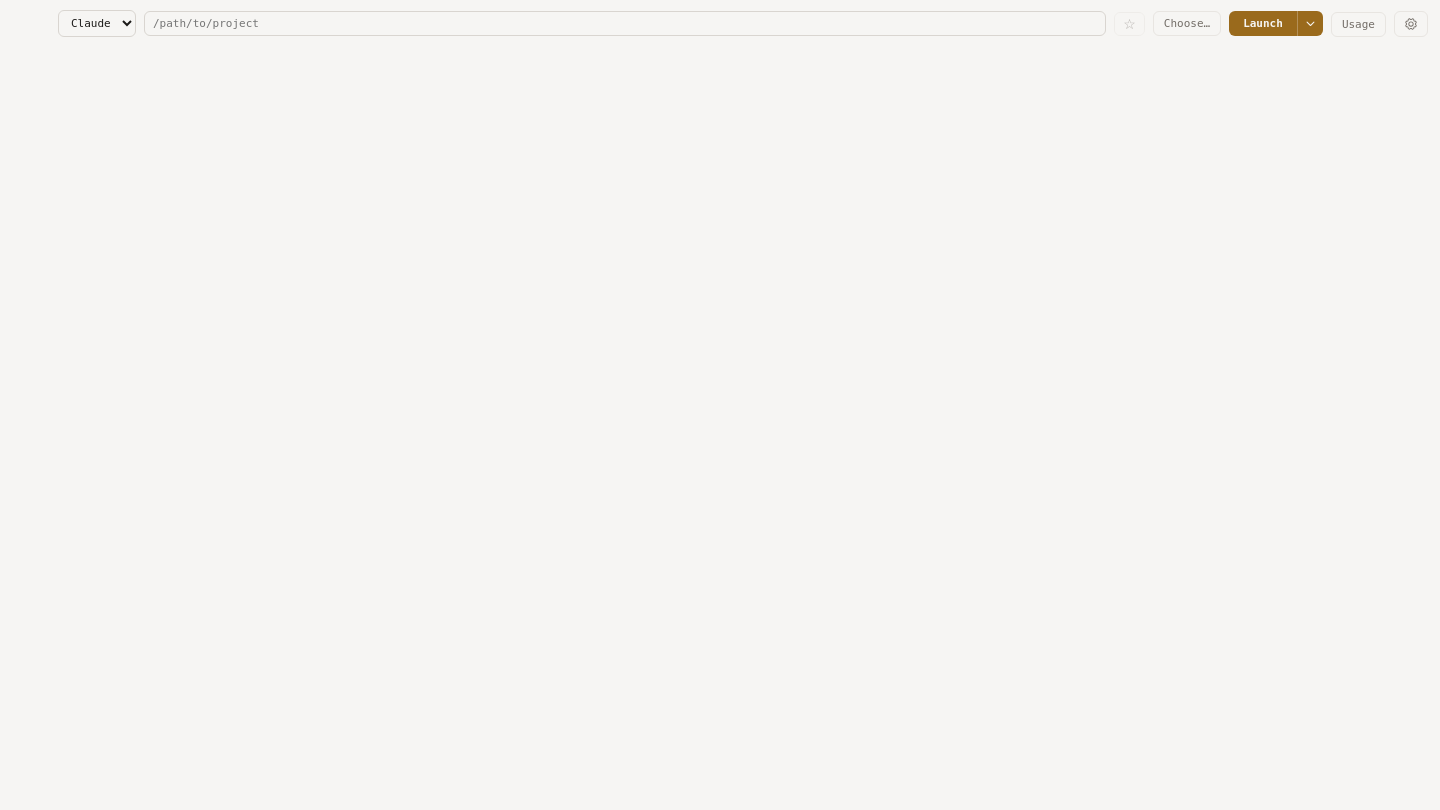
Test: LaunchBar › the Usage button and its popover › opens the popover from a button beside the gear
Click the button "Usage": click(1358, 24) [1331, 12, 1386, 36]
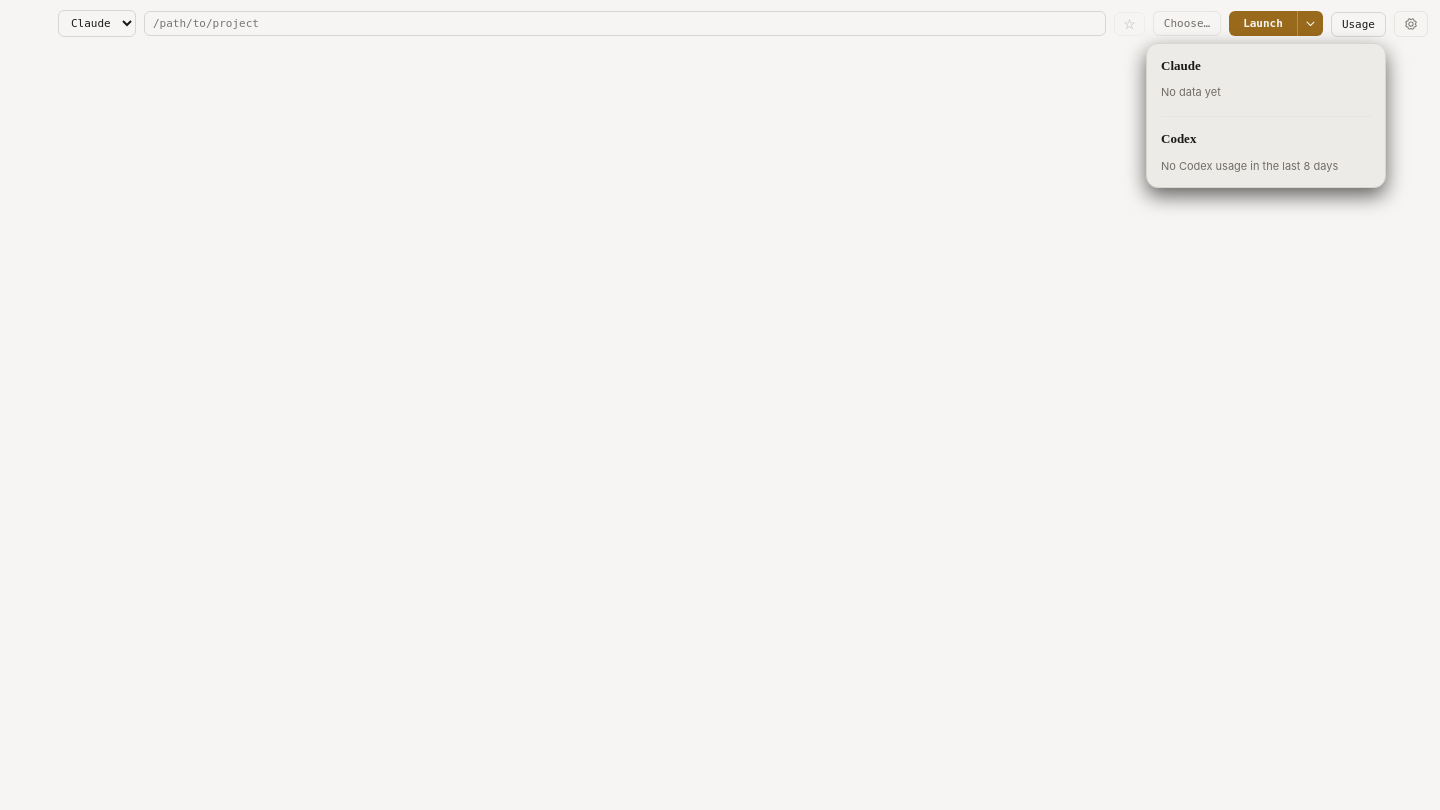
Now the dialog "Claude No data yet Codex No Codex usage in the last 8 days" is shown, box [1146, 42, 1386, 188]
